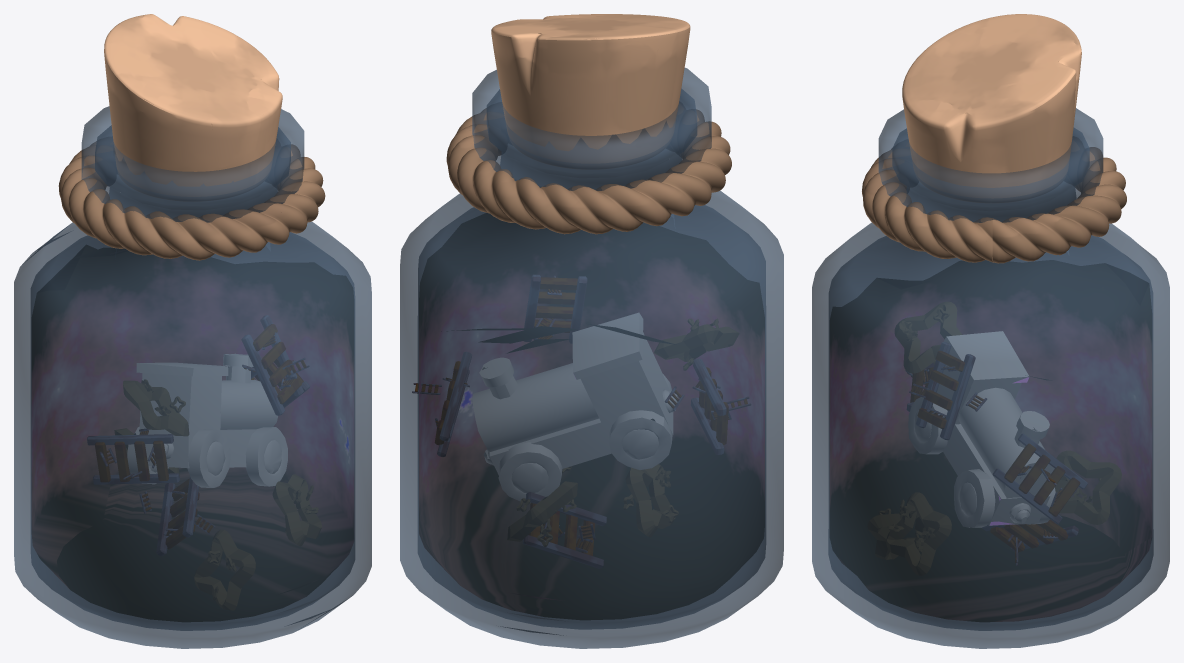
Rendered from train_technic_dead.fbx.
3 views of the same model, side by side, from view 1: azimuth 30°, elevation 25°; view 2: azimuth 150°, elevation 25°; view 3: azimuth 270°, elevation 25° (orthographic). The views are drawn at different scales.
Visible parts, largest first — view 1: Bottle, Fluid, cork.001, rope.001, train.001, Tracks-Ref.027, Tracks-Ref.028, Star-Ref.028, Tracks-Ref.026, Star-Ref.029, Star-Ref.027; view 2: Bottle, Fluid, cork.001, train.001, rope.001, Tracks-Ref.028, Tracks-Ref.026, Star-Ref.028, Tracks-Ref.027, Star-Ref.027, Tracks-Ref.029, Star-Ref.026; view 3: Bottle, Fluid, cork.001, train.001, rope.001, Tracks-Ref.029, Tracks-Ref.028, Star-Ref.029, Star-Ref.026, Star-Ref.027, Tracks-Ref.026, Star-Ref.028.
Boxes of the visible parts, x1,y1,x2,y2 form: Bottle: (14, 106, 371, 648); Fluid: (32, 245, 353, 621); cork.001: (104, 14, 282, 200); rope.001: (58, 141, 325, 260); train.001: (127, 354, 287, 487); Tracks-Ref.027: (87, 434, 179, 484); Tracks-Ref.028: (241, 315, 303, 415); Star-Ref.028: (194, 530, 255, 610); Tracks-Ref.026: (156, 477, 199, 555); Star-Ref.029: (273, 474, 321, 545); Star-Ref.027: (123, 381, 188, 435); Bottle: (400, 67, 783, 648); Fluid: (419, 213, 764, 619); cork.001: (491, 14, 690, 168); train.001: (472, 313, 677, 500); rope.001: (446, 104, 731, 234); Tracks-Ref.028: (524, 275, 586, 343); Tracks-Ref.026: (523, 492, 606, 568); Star-Ref.028: (626, 464, 674, 536); Tracks-Ref.027: (691, 359, 728, 454); Star-Ref.027: (654, 324, 739, 361); Tracks-Ref.029: (435, 352, 471, 456); Star-Ref.026: (507, 481, 577, 541); Bottle: (812, 108, 1169, 648); Fluid: (830, 260, 1151, 621); cork.001: (902, 14, 1081, 202); train.001: (908, 331, 1055, 527); rope.001: (862, 140, 1126, 263); Tracks-Ref.029: (993, 434, 1087, 523); Tracks-Ref.028: (916, 342, 975, 439); Star-Ref.029: (886, 492, 951, 575); Star-Ref.026: (1055, 451, 1121, 524); Star-Ref.027: (895, 302, 961, 372); Tracks-Ref.026: (982, 520, 1078, 551); Star-Ref.028: (867, 506, 934, 559).
Bounding box in the file's own units: 2.48 × 4.14 × 2.48.
11 materials, 4 textured.
